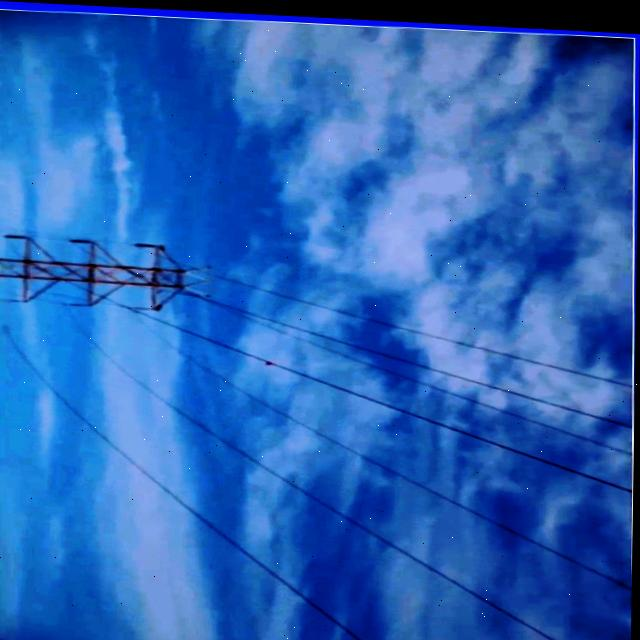obstruction: (266, 357, 277, 361)
poles: (0, 233, 213, 308)
wires: (96, 340, 572, 640), (160, 332, 634, 585), (109, 296, 635, 485), (46, 378, 373, 640), (203, 293, 632, 420), (212, 270, 626, 377), (484, 376, 633, 420), (18, 344, 45, 377), (434, 364, 482, 376)
